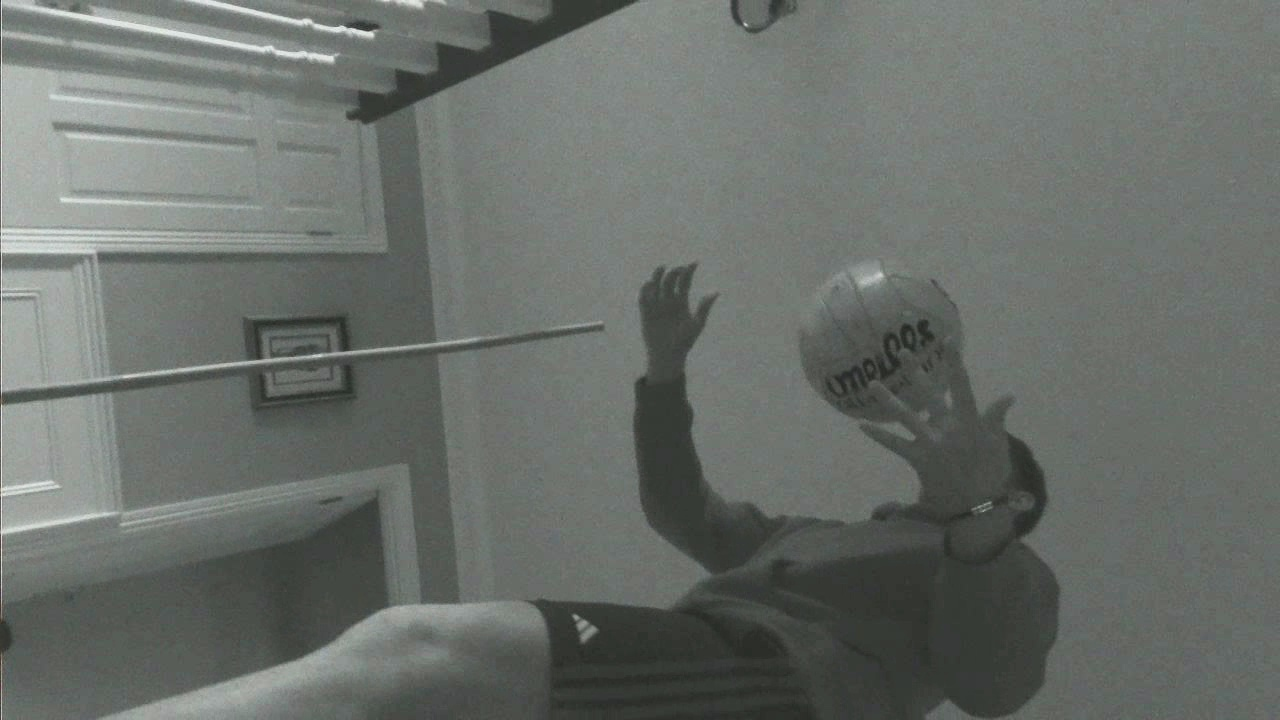Football-Spotter: (798, 259, 962, 421)
